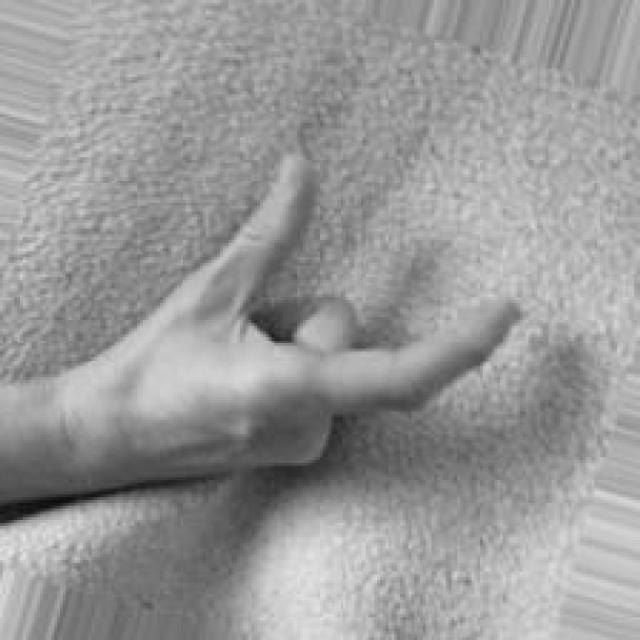U: (74, 149, 526, 494)
